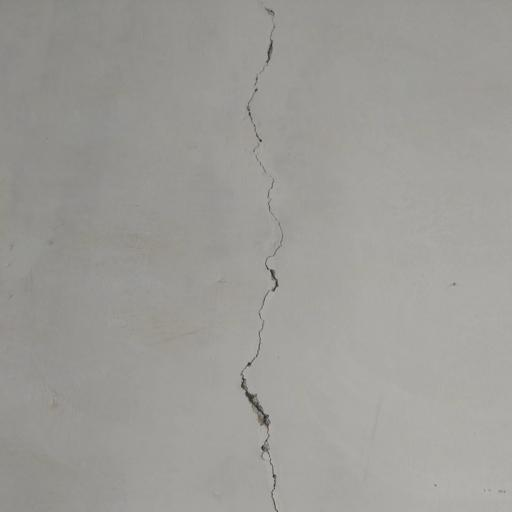major_crack: (236, 0, 309, 512)
